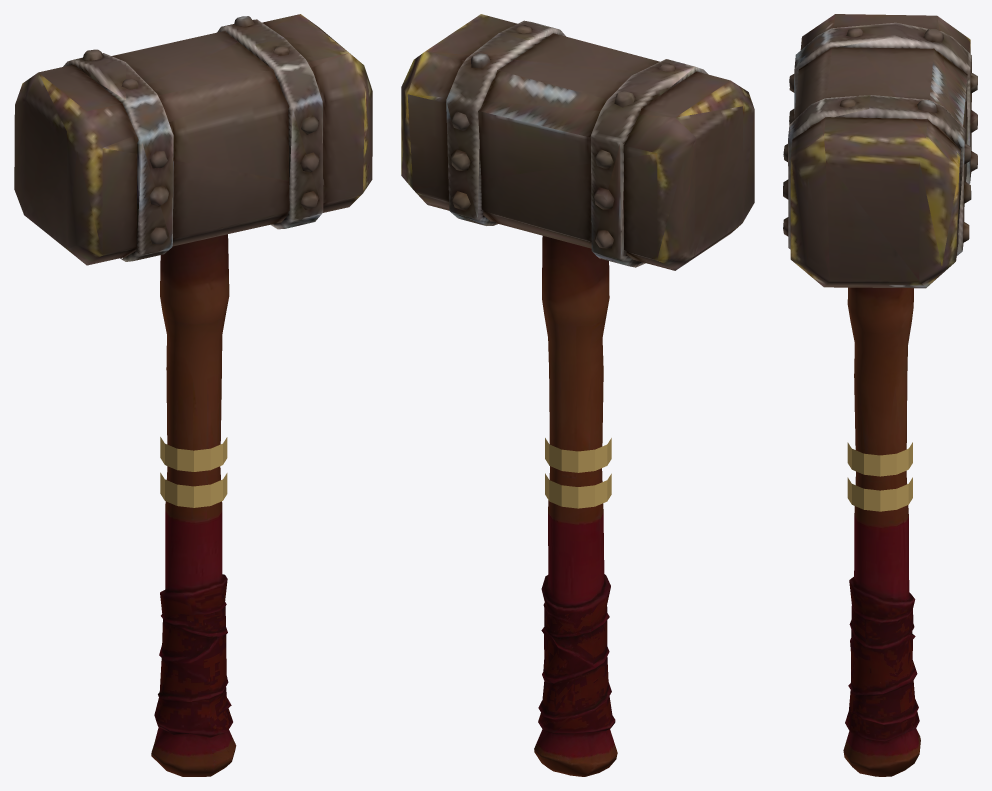
Rendered from hammer_epic_wildwood_scorched_resin.glb.
3 views of the same model, side by side, from view 1: azimuth 30°, elevation 25°; view 2: azimuth 150°, elevation 25°; view 3: azimuth 270°, elevation 25° (orthographic). The views are drawn at different scales.
Parts seen in each view (by area): view 1: tripo_node_9cd1b8bf-214c-4f95-8fef-001042044131; view 2: tripo_node_9cd1b8bf-214c-4f95-8fef-001042044131; view 3: tripo_node_9cd1b8bf-214c-4f95-8fef-001042044131.
Boxes of the visible parts, x1=… form: tripo_node_9cd1b8bf-214c-4f95-8fef-001042044131: x1=14, y1=14, x2=372, y2=776; tripo_node_9cd1b8bf-214c-4f95-8fef-001042044131: x1=401, y1=14, x2=754, y2=776; tripo_node_9cd1b8bf-214c-4f95-8fef-001042044131: x1=783, y1=14, x2=977, y2=776.
Size of the model in its own units: 0.6205 by 1.45 by 0.365.
1 material, 1 textured.
